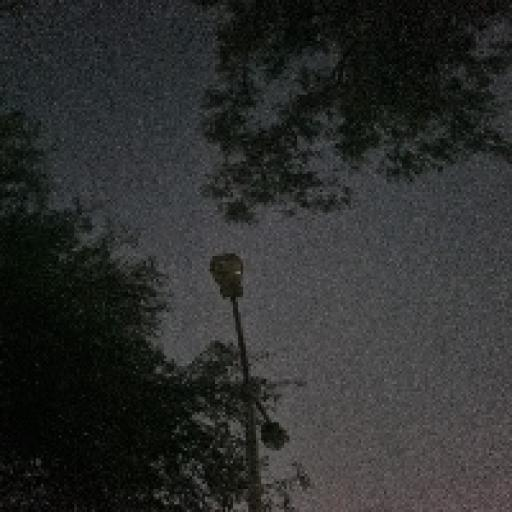Not Working: (190, 238, 258, 311), (248, 406, 294, 462)
